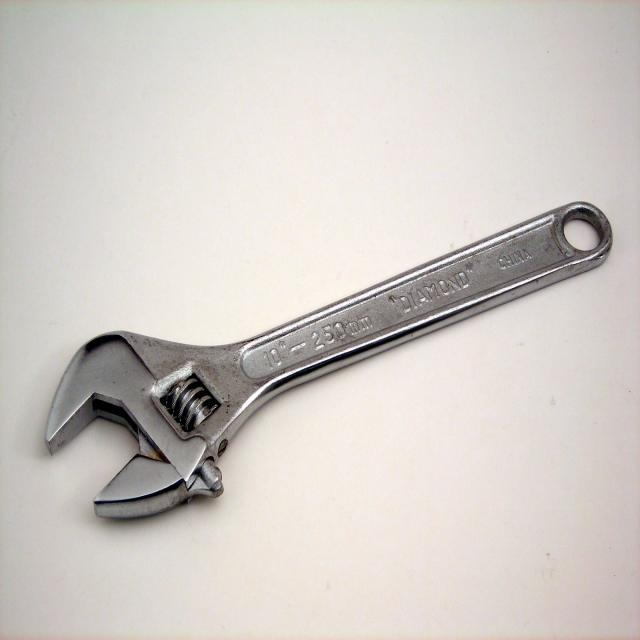wrench: (41, 196, 616, 529)
